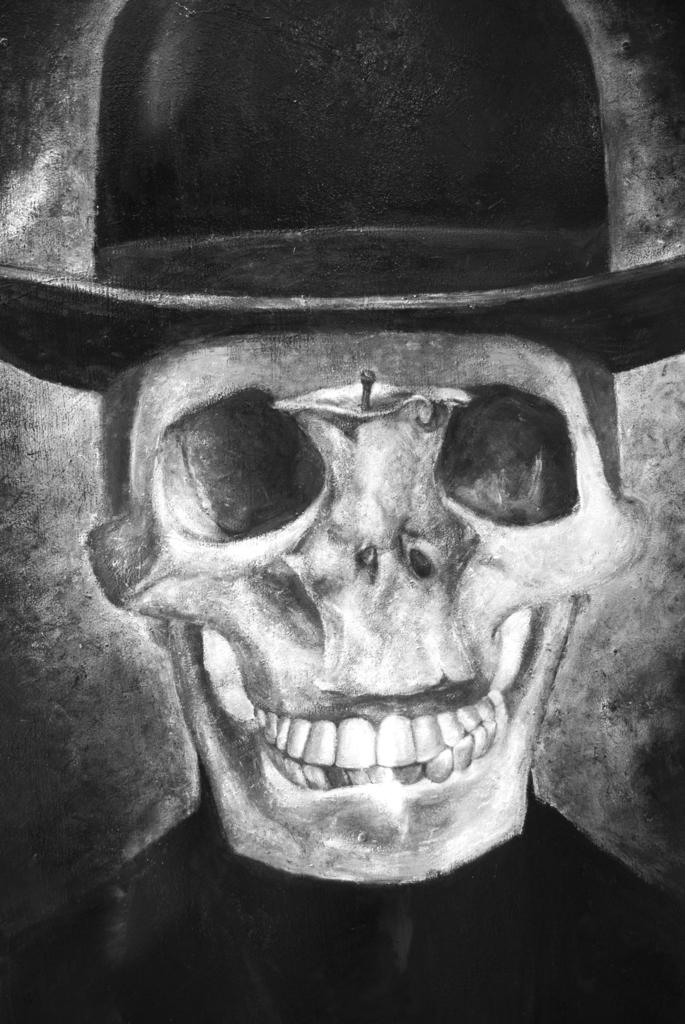Hat: (0, 0, 684, 401)
